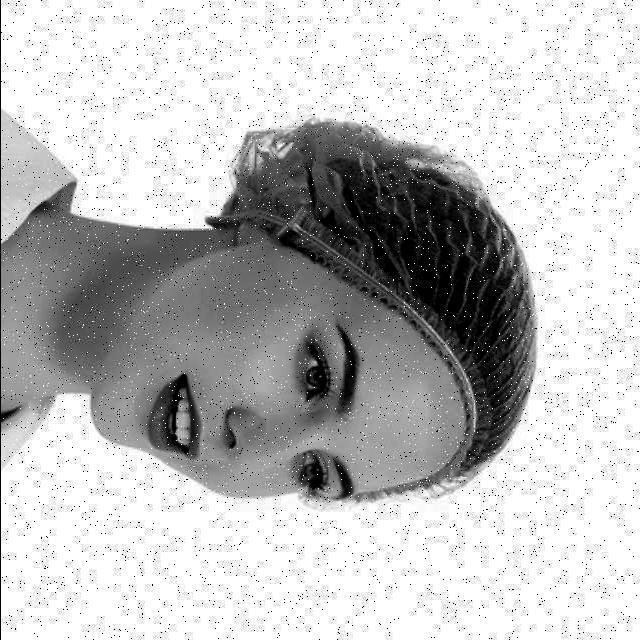gloves: (339, 142, 529, 488)
no_hairnet: (122, 344, 245, 468)
